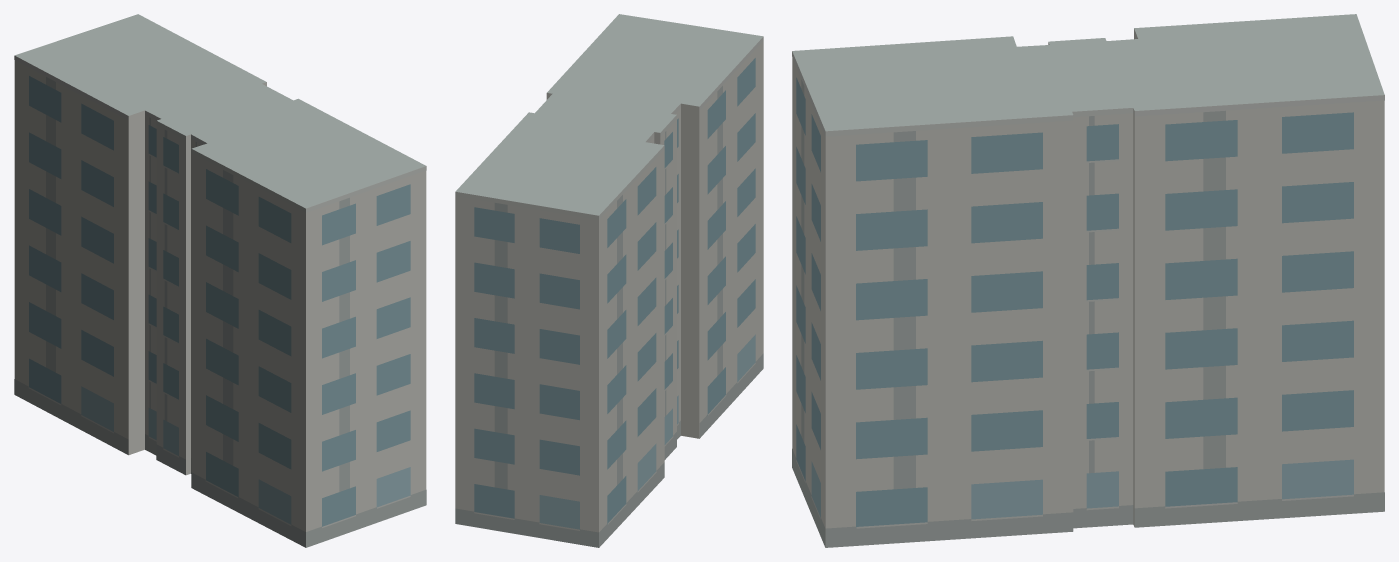
The model's file is survey-upis-32563720.glb.
3 views of the same model, side by side, from view 1: azimuth 30°, elevation 25°; view 2: azimuth 150°, elevation 25°; view 3: azimuth 270°, elevation 25° (orthographic). The views are drawn at different scales.
Visible parts, largest first — view 1: survey-upis-32563720.tmp; view 2: survey-upis-32563720.tmp; view 3: survey-upis-32563720.tmp.
Boxes of the visible parts, box(x1,y1,x2,y2) form: survey-upis-32563720.tmp: box(14, 14, 426, 547); survey-upis-32563720.tmp: box(455, 14, 763, 547); survey-upis-32563720.tmp: box(792, 14, 1384, 547).
Bounding box in the file's own units: 11.06 × 18.3 × 23.61.
